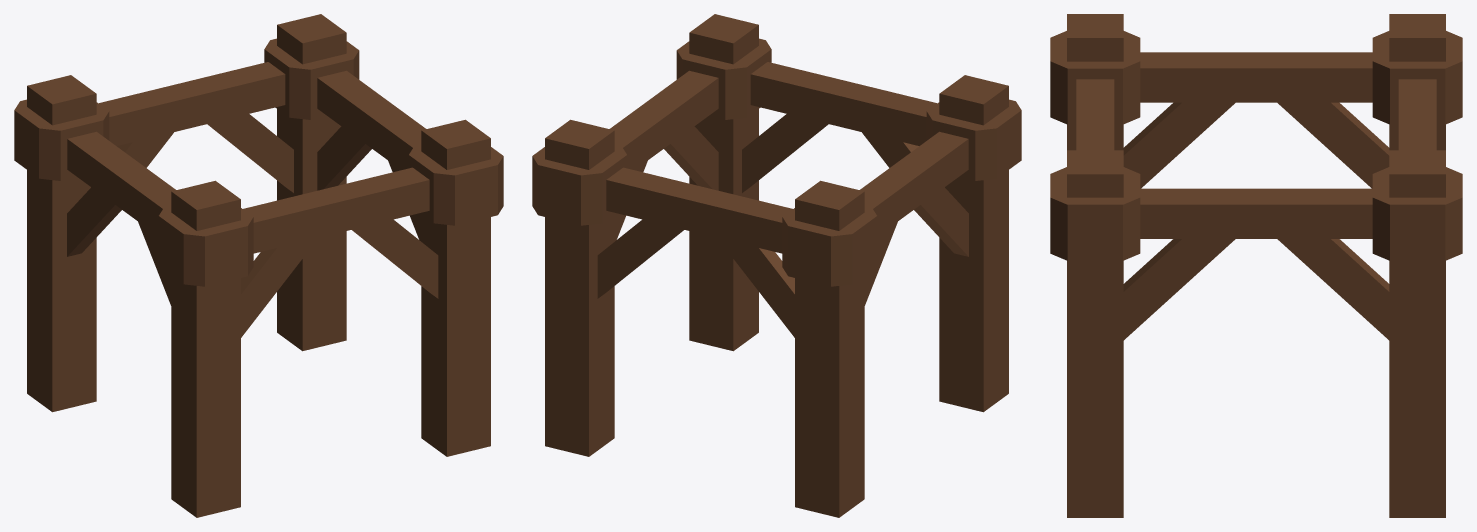
Rendered from kenney_mini-dungeon__wood-structure__cave.fbx.
3 views of the same model, side by side, from view 1: azimuth 30°, elevation 25°; view 2: azimuth 150°, elevation 25°; view 3: azimuth 270°, elevation 25° (orthographic). The views are drawn at different scales.
Parts seen in each view (by area): view 1: kenney_mini-dungeon__wood-structure__cave_wood; view 2: kenney_mini-dungeon__wood-structure__cave_wood; view 3: kenney_mini-dungeon__wood-structure__cave_wood.
Part boxes in pixels (<box>): kenney_mini-dungeon__wood-structure__cave_wood: <box>14,14,503,517</box>; kenney_mini-dungeon__wood-structure__cave_wood: <box>532,14,1021,517</box>; kenney_mini-dungeon__wood-structure__cave_wood: <box>1050,14,1462,517</box>.
Bounding box in the file's own units: 3.89 × 3.57 × 3.89.
Materials: 1 (1 with a texture image).
